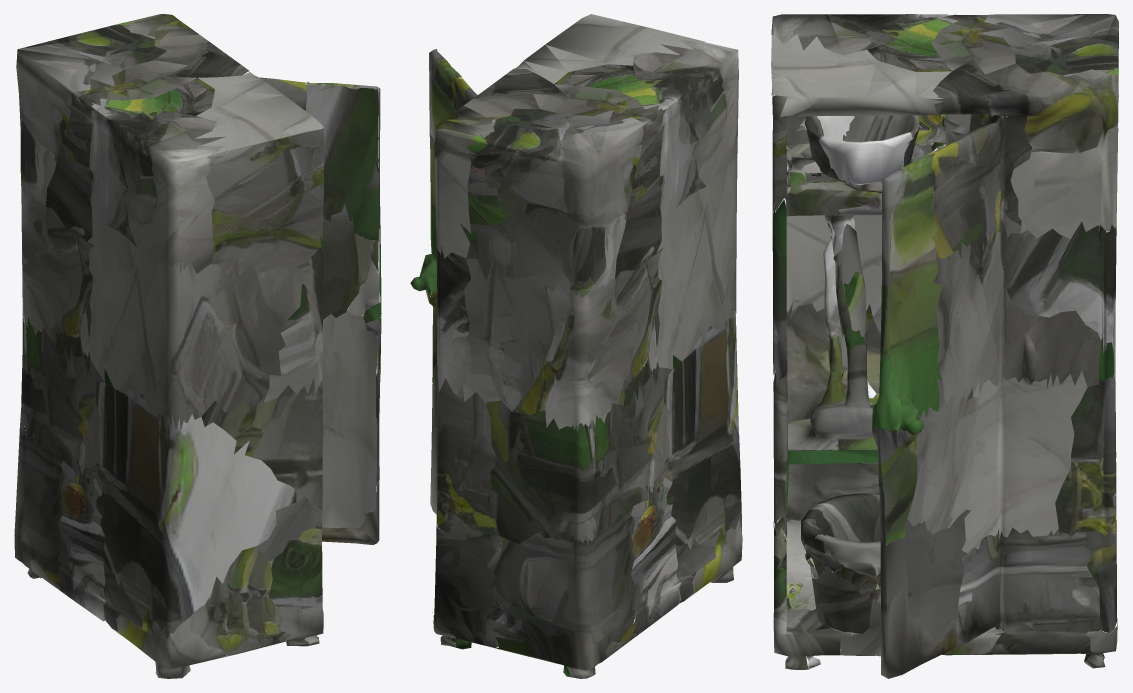
The model's file is env_freestanding_maintenance_cabinet_01.glb.
3 renders of one model, left to right at view 1: azimuth 30°, elevation 25°; view 2: azimuth 150°, elevation 25°; view 3: azimuth 270°, elevation 25°, orthographic. The views are drawn at different scales.
Parts seen in each view (by area): view 1: tripo_node_4993ca93-a5d7-4e8c-8414-b91e6c0c1cdb; view 2: tripo_node_4993ca93-a5d7-4e8c-8414-b91e6c0c1cdb; view 3: tripo_node_4993ca93-a5d7-4e8c-8414-b91e6c0c1cdb.
Boxes of the visible parts, box(x1,y1,x2,y2) form: tripo_node_4993ca93-a5d7-4e8c-8414-b91e6c0c1cdb: box(14, 14, 381, 678); tripo_node_4993ca93-a5d7-4e8c-8414-b91e6c0c1cdb: box(410, 14, 742, 678); tripo_node_4993ca93-a5d7-4e8c-8414-b91e6c0c1cdb: box(771, 14, 1118, 678).
Size of the model in its own units: 0.5419 by 1 by 0.5502.
1 material, 1 textured.
